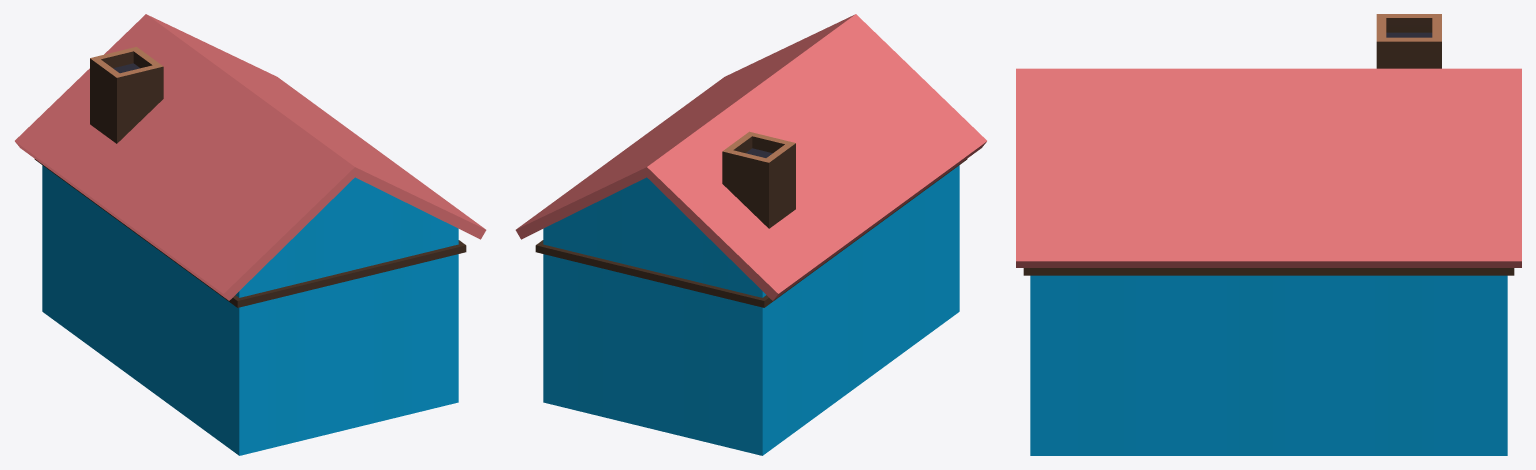
Rendered from Regular_House1.fbx.
3 renders of one model, left to right at view 1: azimuth 30°, elevation 25°; view 2: azimuth 150°, elevation 25°; view 3: azimuth 270°, elevation 25°, orthographic. The views are drawn at different scales.
Parts seen in each view (by area): view 1: Cube.049; view 2: Cube.049; view 3: Cube.049.
Boxes of the visible parts, left/top/right/bottom form: Cube.049: left=15, top=14, right=486, bottom=455; Cube.049: left=515, top=14, right=986, bottom=455; Cube.049: left=1016, top=14, right=1521, bottom=455.
Size of the model in its own units: 1124 by 1096 by 1549.
